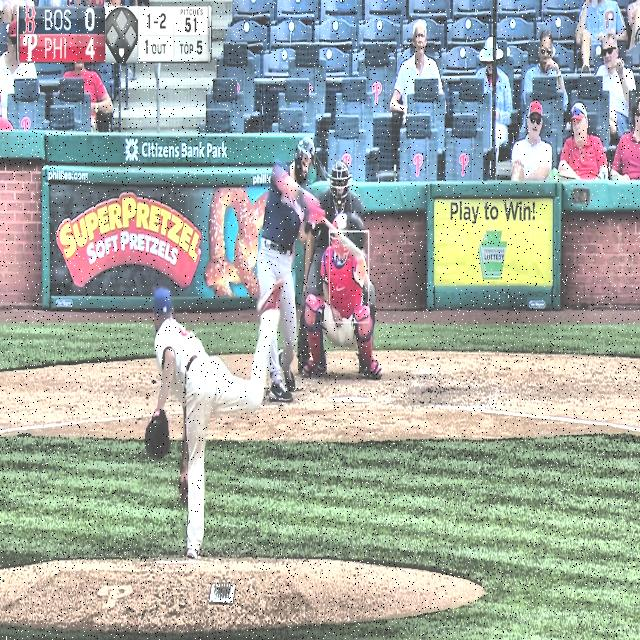baseball: (338, 214, 347, 229)
